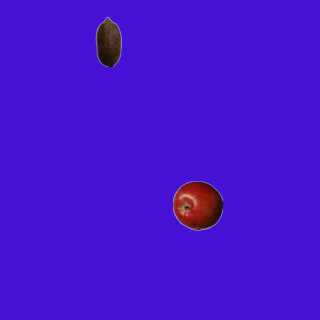Apple Braeburn: (172, 180, 222, 230)
Nut Pecan: (83, 16, 133, 66)
